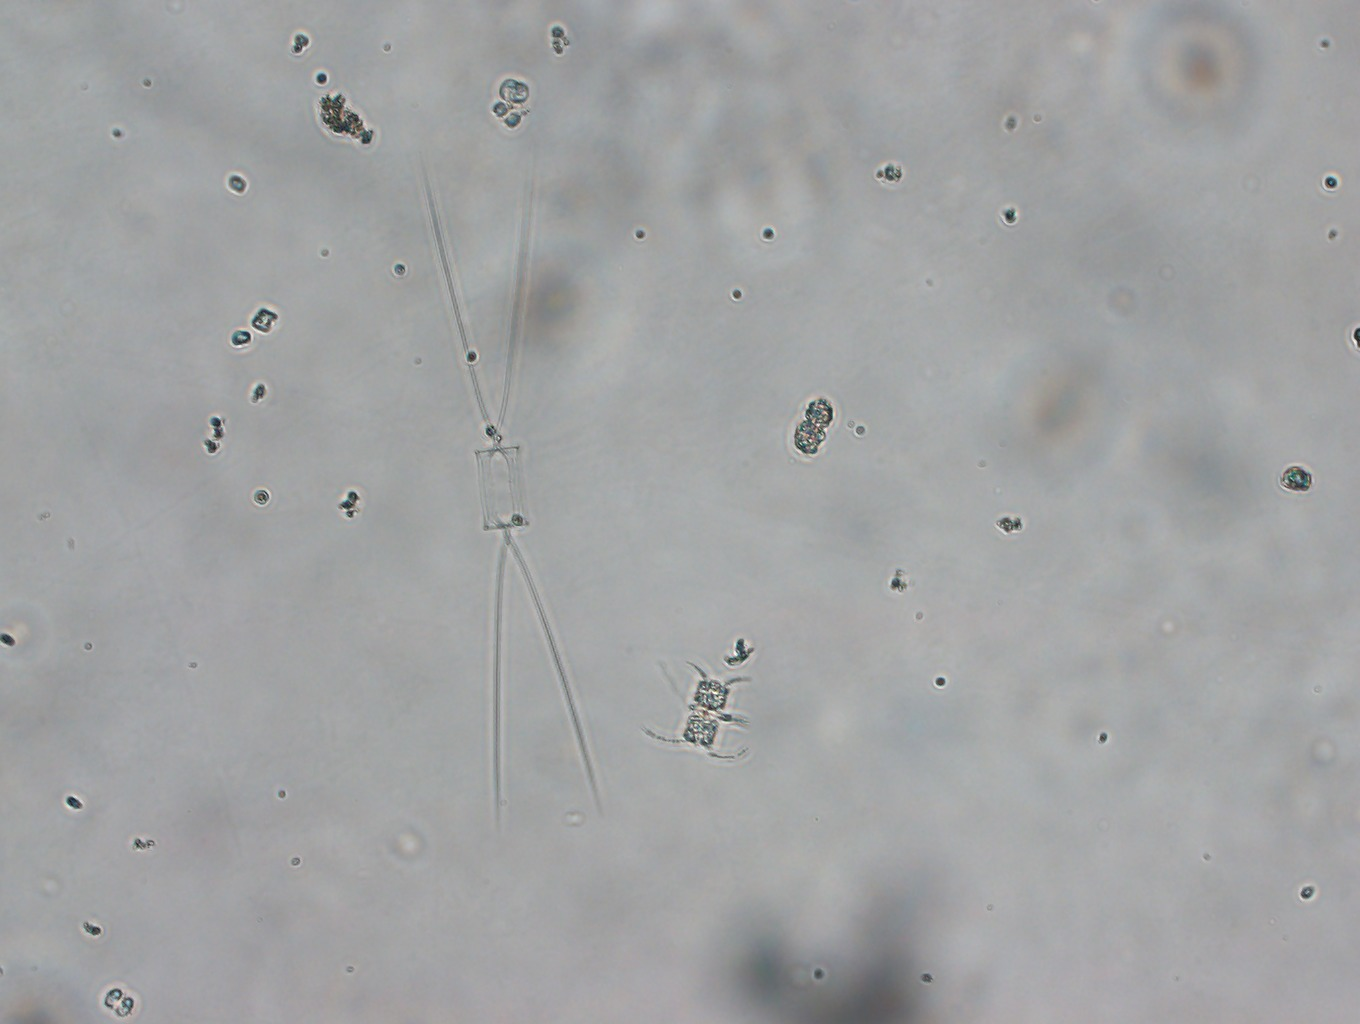chaetoceros: (420, 163, 579, 836)
